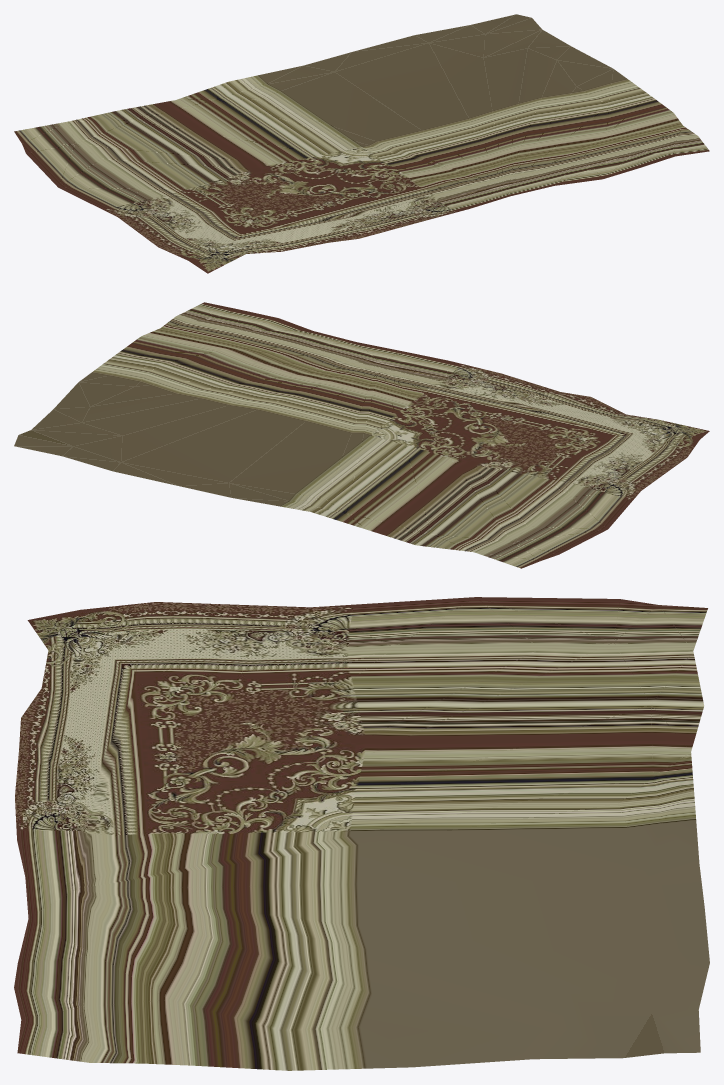
Rendered from carpet_3_2.fbx.
3 views of the same model, one above another, from view 1: azimuth 30°, elevation 25°; view 2: azimuth 150°, elevation 25°; view 3: azimuth 270°, elevation 25° (orthographic). The views are drawn at different scales.
Parts seen in each view (by area): view 1: Plane; view 2: Plane; view 3: Plane.
Part boxes in pixels (x1,y1,x2,y2): Plane: (14,14,709,273); Plane: (14,302,709,568); Plane: (14,597,709,1070).
Size of the model in its own units: 300 by 3.15 by 187.
